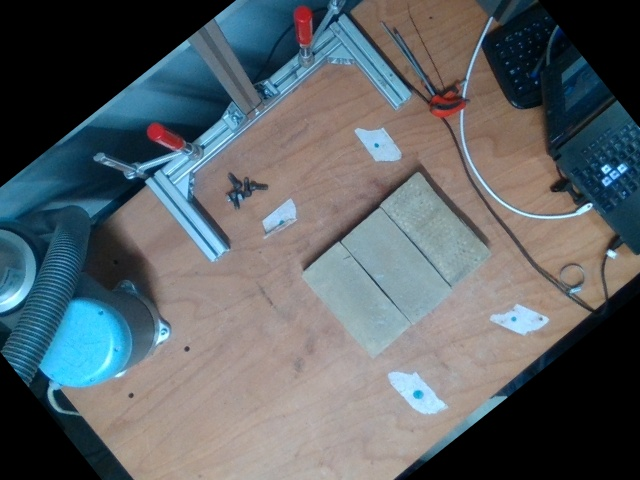brick: (302, 243, 412, 359), (342, 207, 452, 322), (383, 174, 488, 285)
